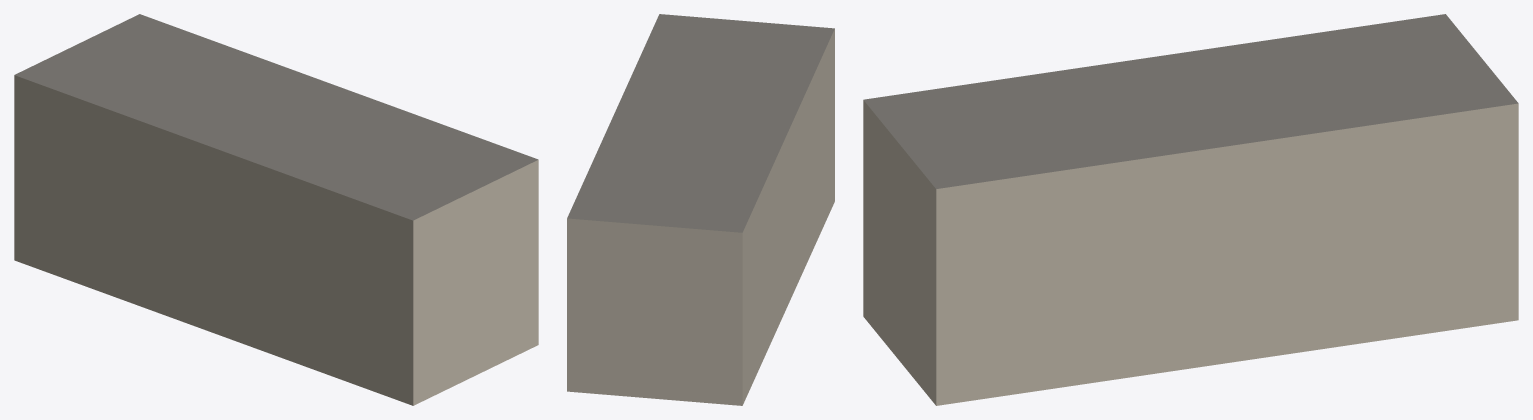
3 views of the same model, side by side, from view 1: azimuth 30°, elevation 25°; view 2: azimuth 150°, elevation 25°; view 3: azimuth 270°, elevation 25° (orthographic). The views are drawn at different scales.
Visible parts, largest first — view 1: HP-w438969159; view 2: HP-w438969159; view 3: HP-w438969159.
Boxes of the visible parts, x1,y1,x2,y2 form: HP-w438969159: [14, 14, 538, 405]; HP-w438969159: [567, 14, 834, 405]; HP-w438969159: [863, 14, 1518, 405].
Size of the model in its own units: 31.19 by 18 by 49.32.
